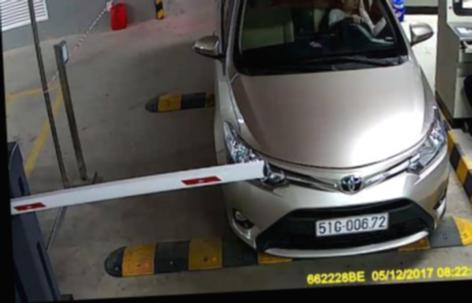License_Plate: (311, 212, 393, 238)
